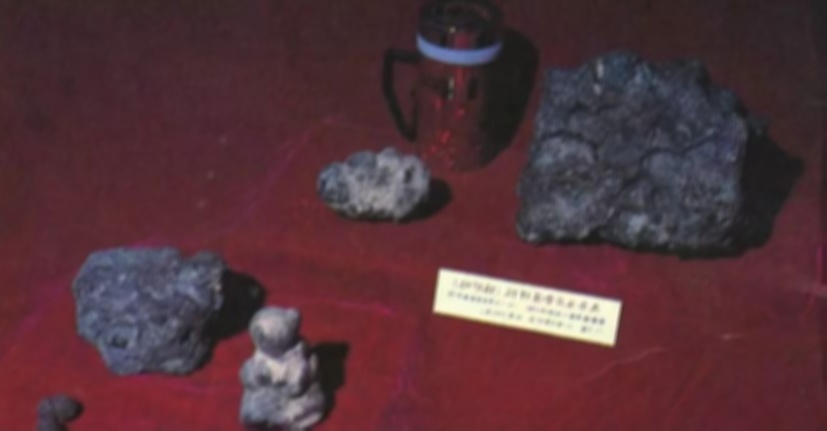halobolite: (509, 54, 754, 253), (85, 232, 244, 380), (246, 307, 340, 428), (327, 147, 442, 222), (33, 393, 90, 431)
